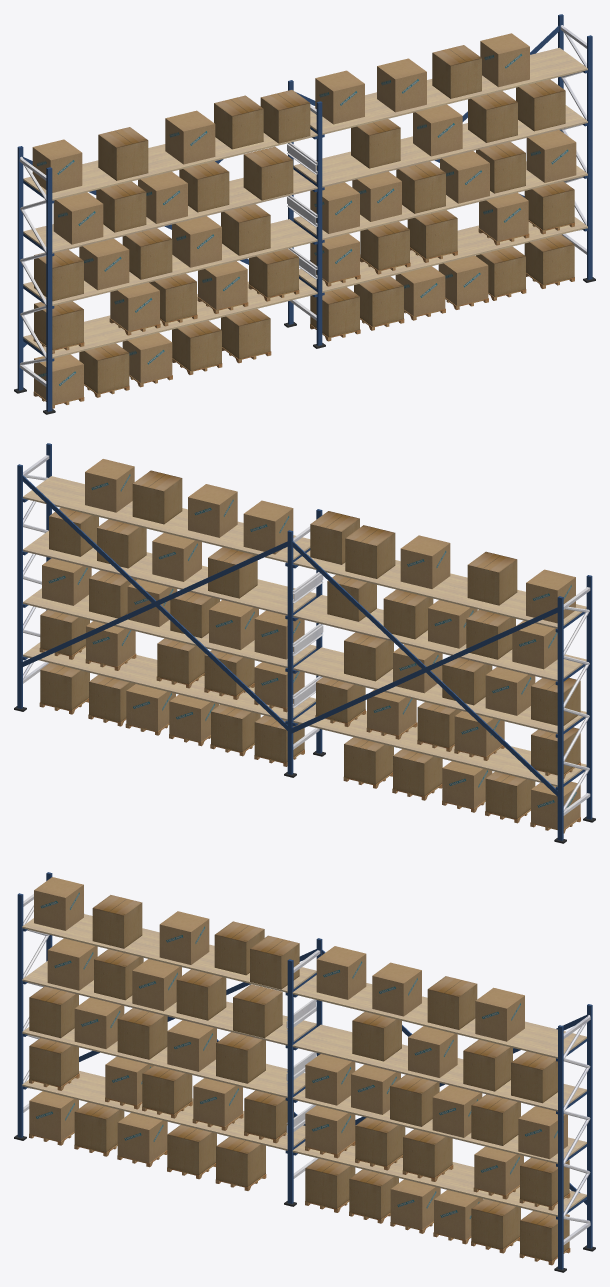
Rendered from BigShelves01Group1.FBX.
3 views of the same model, one above another, from view 1: azimuth 30°, elevation 25°; view 2: azimuth 150°, elevation 25°; view 3: azimuth 330°, elevation 25° (orthographic).
Visible parts, largest first — view 1: Cardboard_box01, Cardboard_box05, BigShelves01, BigShelvesWoodBox; view 2: Cardboard_box01, BigShelves01, Cardboard_box05, BigShelvesWoodBox; view 3: Cardboard_box01, Cardboard_box05, BigShelves01, BigShelvesWoodBox.
Boxes of the visible parts, x1,y1,x2,y2 form: Cardboard_box01: [34, 45, 574, 393]; Cardboard_box05: [32, 33, 576, 404]; BigShelves01: [14, 14, 595, 414]; BigShelvesWoodBox: [33, 220, 574, 408]; Cardboard_box01: [40, 470, 580, 818]; BigShelves01: [14, 443, 595, 843]; Cardboard_box05: [42, 459, 580, 828]; BigShelvesWoodBox: [39, 645, 580, 833]; Cardboard_box01: [29, 895, 569, 1261]; Cardboard_box05: [29, 877, 567, 1240]; BigShelves01: [14, 872, 595, 1272]; BigShelvesWoodBox: [29, 1073, 570, 1265].
Bounding box in the file's own units: 699 × 299 × 71.51.
